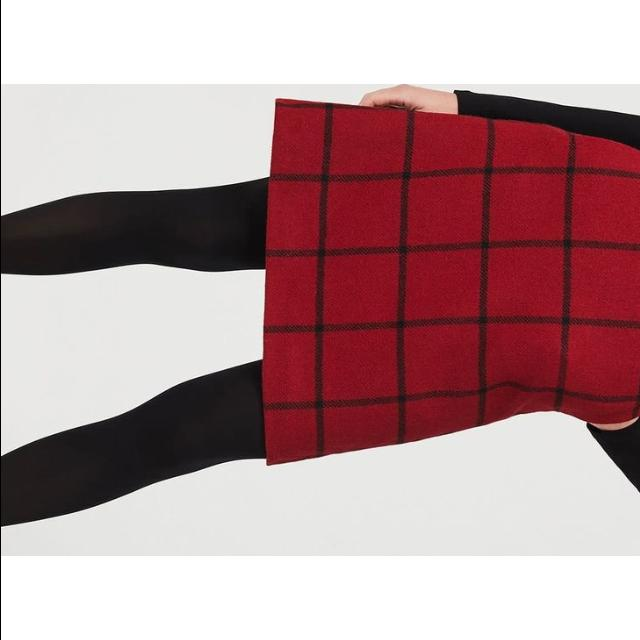wool: (246, 84, 640, 540)
